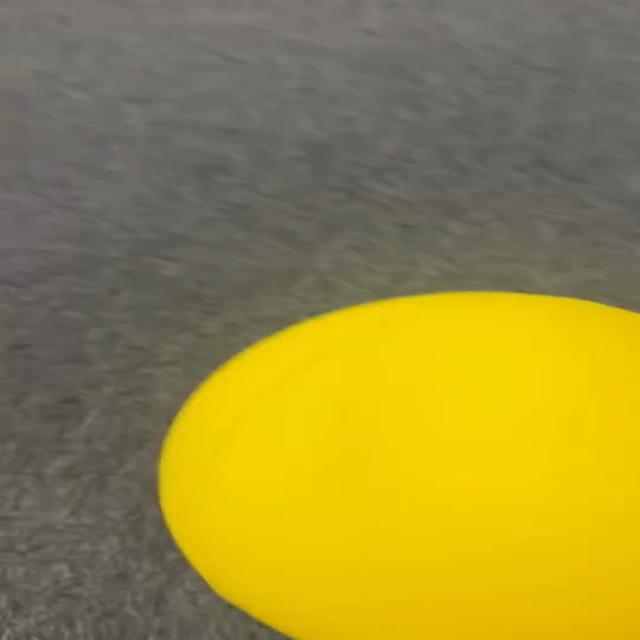Fuels: (158, 290, 638, 636)
